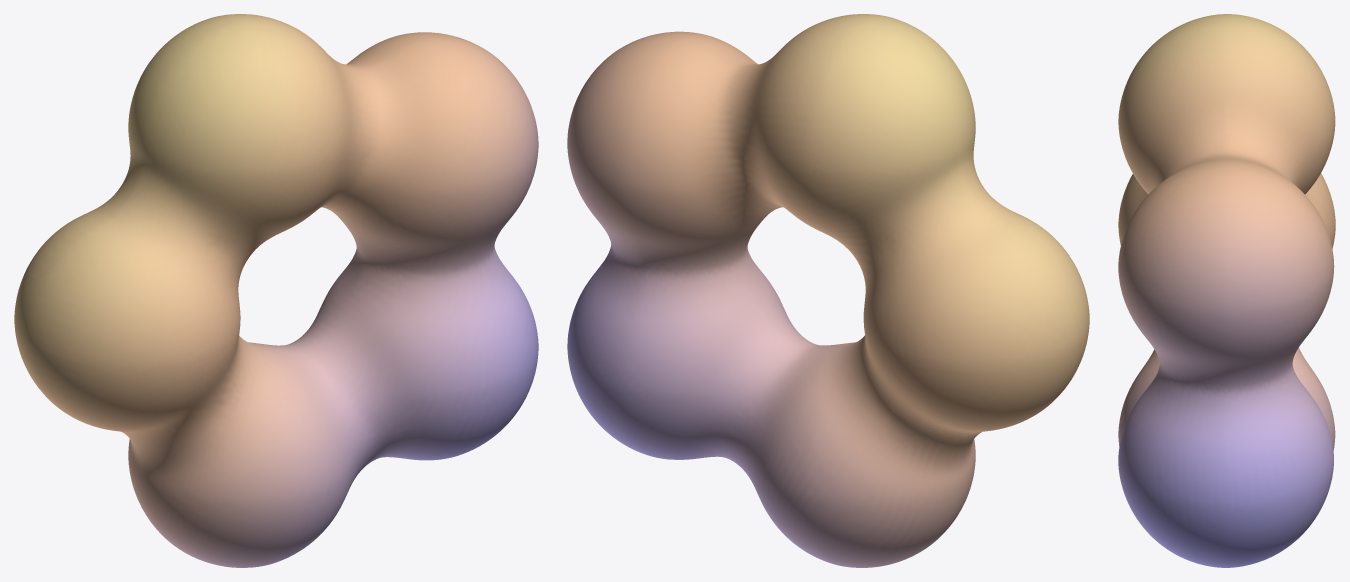
Rendered from 07_munchkin_static.glb.
3 renders of one model, left to right at view 1: azimuth 30°, elevation 25°; view 2: azimuth 150°, elevation 25°; view 3: azimuth 270°, elevation 25°, orthographic. The views are drawn at different scales.
Visible parts, largest first — view 1: pinch; view 2: pinch; view 3: pinch.
Part boxes in pixels (bbox=[...]): pinch: bbox=[14, 14, 538, 567]; pinch: bbox=[567, 14, 1089, 567]; pinch: bbox=[1118, 14, 1335, 567].
Bounding box in the file's own units: 0.1275 × 0.1317 × 0.0509.
Materials: 1 (1 with a texture image).
